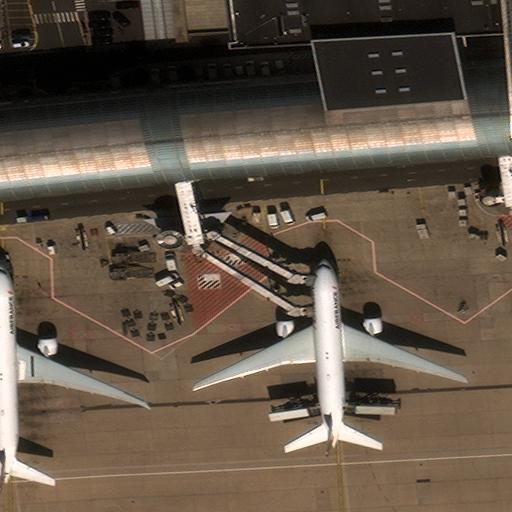Large Civil Transport: (194, 258, 463, 457), (0, 263, 146, 492)
